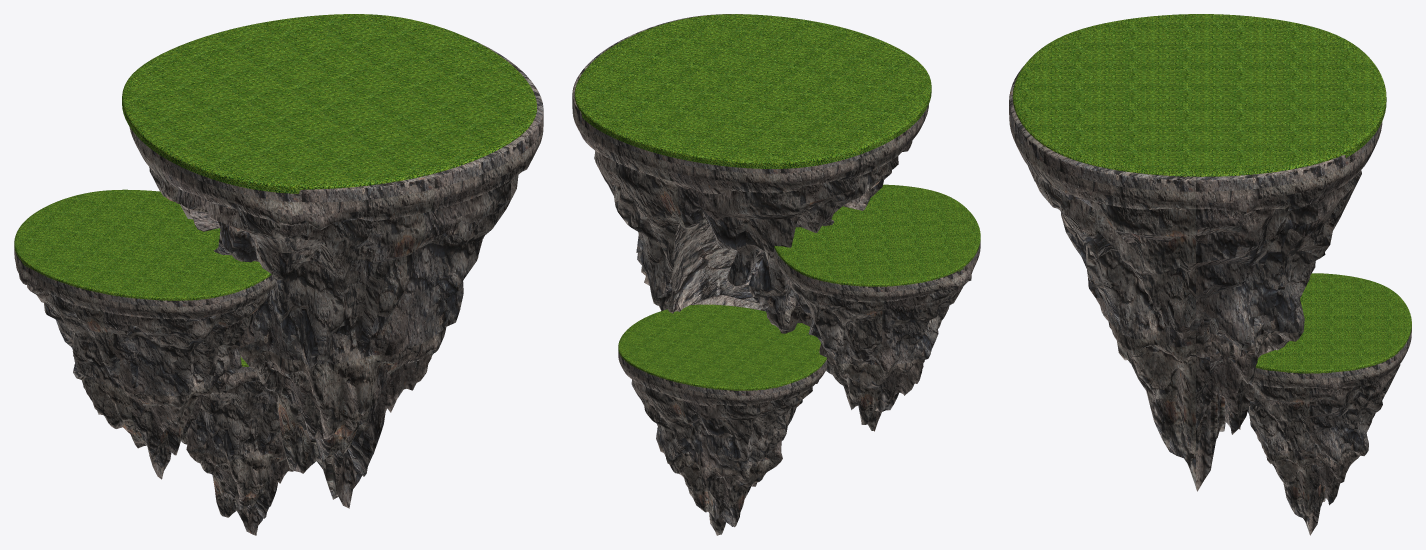
3 views of the same model, side by side, from view 1: azimuth 30°, elevation 25°; view 2: azimuth 150°, elevation 25°; view 3: azimuth 270°, elevation 25° (orthographic). The views are drawn at different scales.
Visible parts, largest first — view 1: island001, grass001, island003, grass002, island005; view 2: grass001, island001, island005, island003, grass002, grass003; view 3: island001, grass001, island005, grass003.
Boxes of the visible parts, x1=… form: island001: x1=129, y1=37, x2=543, y2=508; grass001: x1=122, y1=14, x2=537, y2=193; island003: x1=14, y1=248, x2=275, y2=479; grass002: x1=14, y1=189, x2=271, y2=300; island005: x1=181, y1=366, x2=293, y2=535; grass001: x1=574, y1=14, x2=931, y2=168; island001: x1=572, y1=14, x2=928, y2=333; island005: x1=618, y1=350, x2=827, y2=535; island003: x1=773, y1=241, x2=980, y2=431; grass002: x1=774, y1=184, x2=980, y2=286; grass003: x1=618, y1=304, x2=826, y2=390; island001: x1=1009, y1=66, x2=1382, y2=491; grass001: x1=1012, y1=14, x2=1386, y2=176; island005: x1=1242, y1=327, x2=1411, y2=535; grass003: x1=1255, y1=273, x2=1411, y2=373.
Size of the model in its own units: 61.24 by 61.08 by 49.6.
